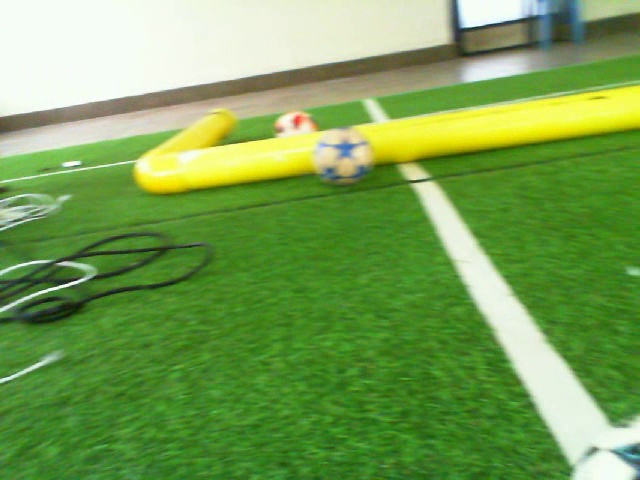ball: (312, 123, 377, 189), (273, 106, 311, 141)
